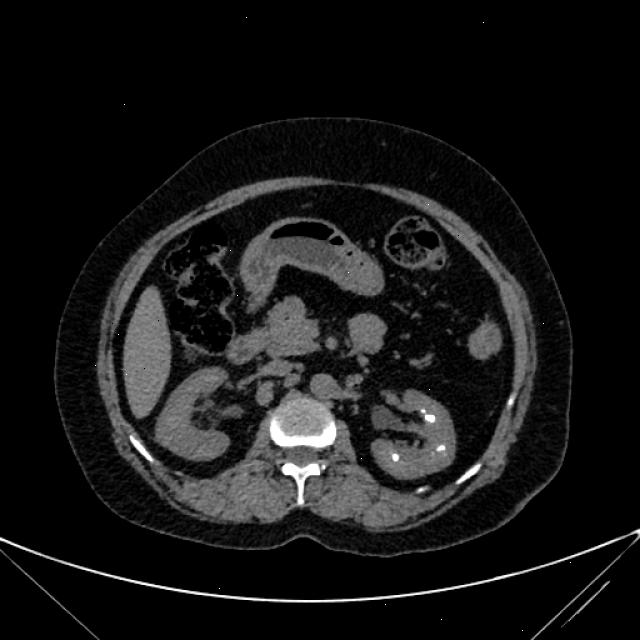kidneystone: (424, 414, 435, 423), (391, 452, 400, 462), (436, 445, 446, 452)
